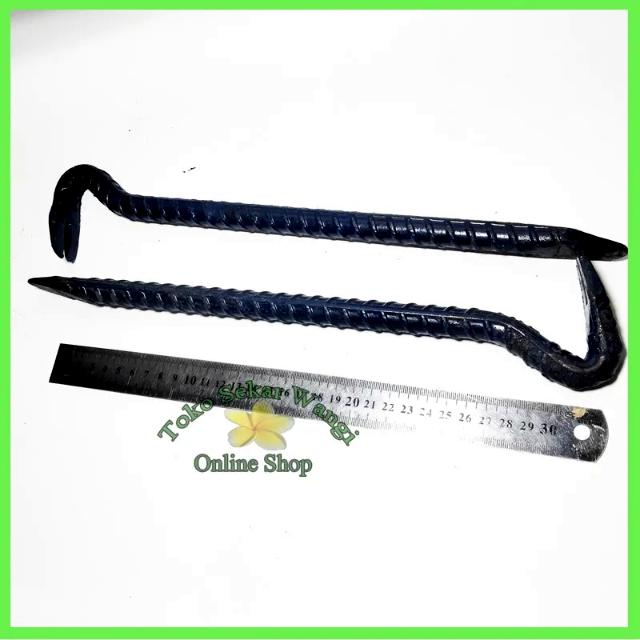crow bar: (72, 247, 628, 395), (45, 161, 627, 264)
